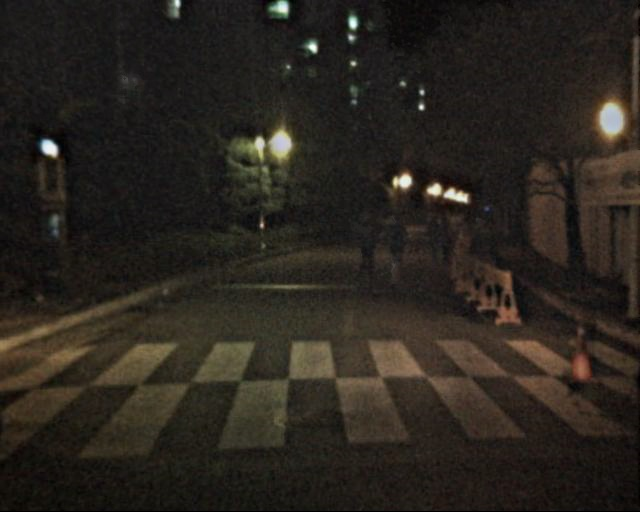person: (349, 210, 380, 286), (379, 213, 409, 285), (423, 215, 446, 271), (437, 217, 458, 268)
